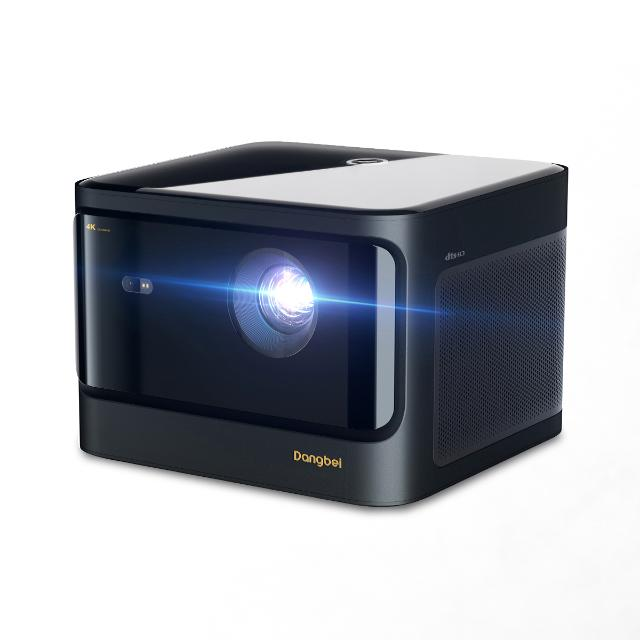Projector: (44, 94, 594, 556)
